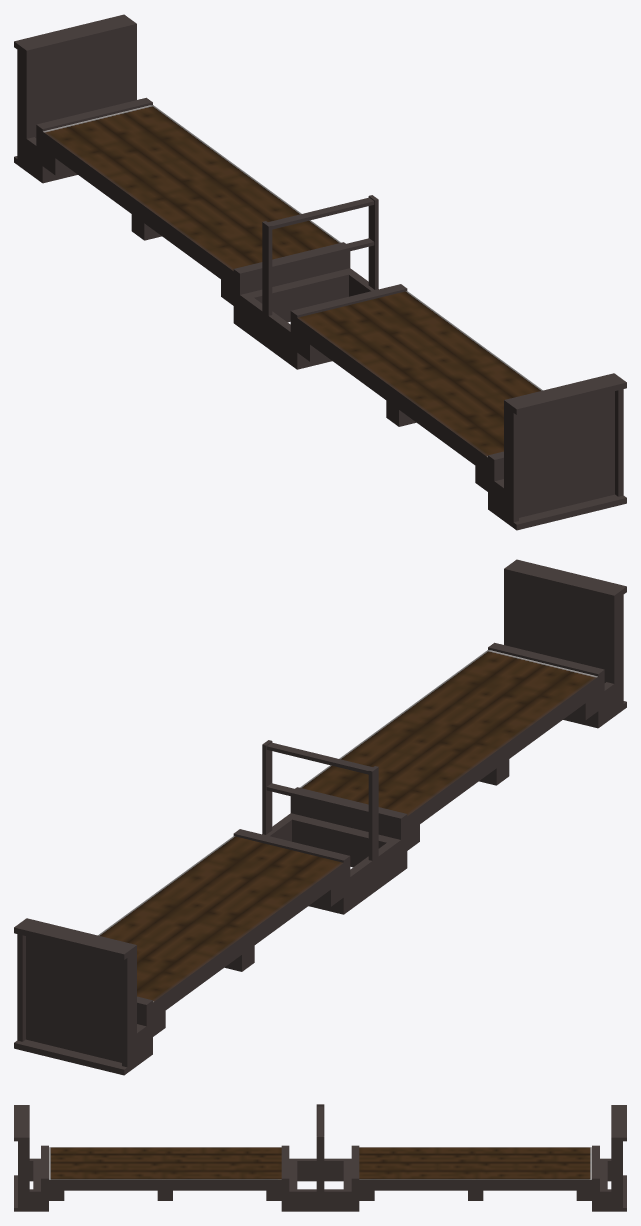
The model's file is spsf_bridge_double.obj.
3 views of the same model, one above another, from view 1: azimuth 30°, elevation 25°; view 2: azimuth 150°, elevation 25°; view 3: azimuth 270°, elevation 25° (orthographic). The views are drawn at different scales.
Visible parts, largest first — view 1: RAIL_BASE; view 2: RAIL_BASE; view 3: RAIL_BASE.
Part boxes in pixels (<box>): RAIL_BASE: <box>14,14,626,530</box>; RAIL_BASE: <box>14,559,626,1075</box>; RAIL_BASE: <box>14,1104,626,1211</box>.
Bounding box in the file's own units: 1 × 1.06 × 7.9.
1 material, 1 textured.
